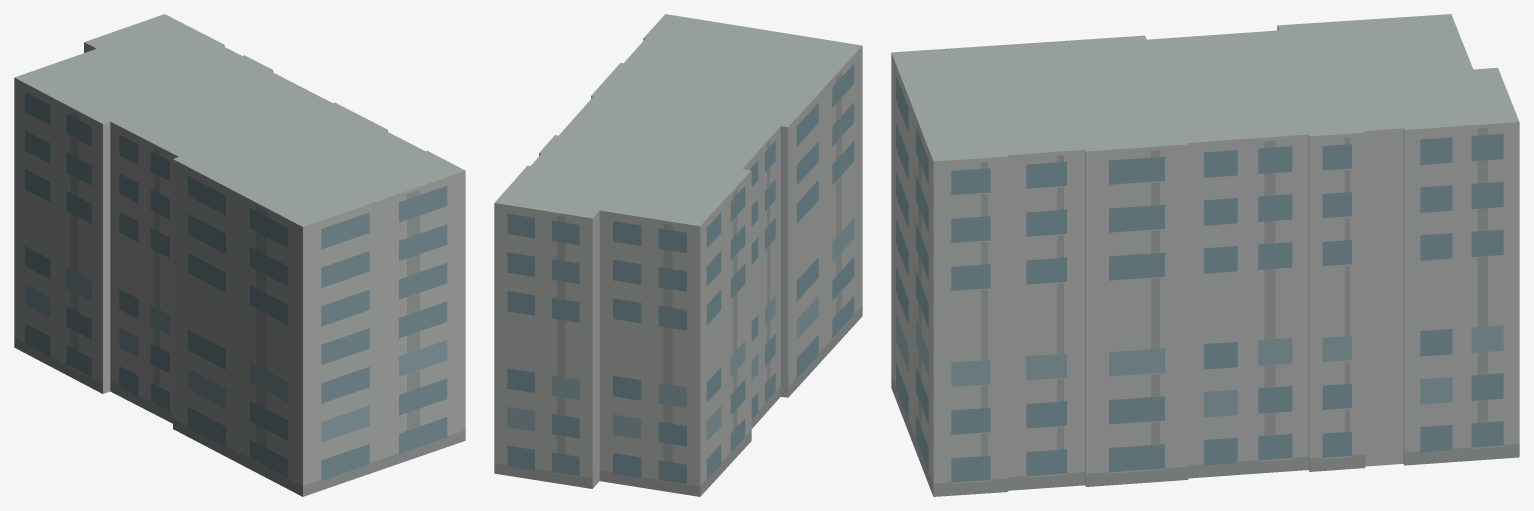
The model's file is survey-upis-32800092.glb.
3 renders of one model, left to right at view 1: azimuth 30°, elevation 25°; view 2: azimuth 150°, elevation 25°; view 3: azimuth 270°, elevation 25°, orthographic. The views are drawn at different scales.
Parts seen in each view (by area): view 1: survey-upis-32800092.tmp; view 2: survey-upis-32800092.tmp; view 3: survey-upis-32800092.tmp.
Part boxes in pixels (bbox=[...]): survey-upis-32800092.tmp: bbox=[14, 14, 465, 496]; survey-upis-32800092.tmp: bbox=[494, 14, 862, 496]; survey-upis-32800092.tmp: bbox=[891, 14, 1519, 496].
Bounding box in the file's own units: 20.13 × 21.35 × 36.24.
